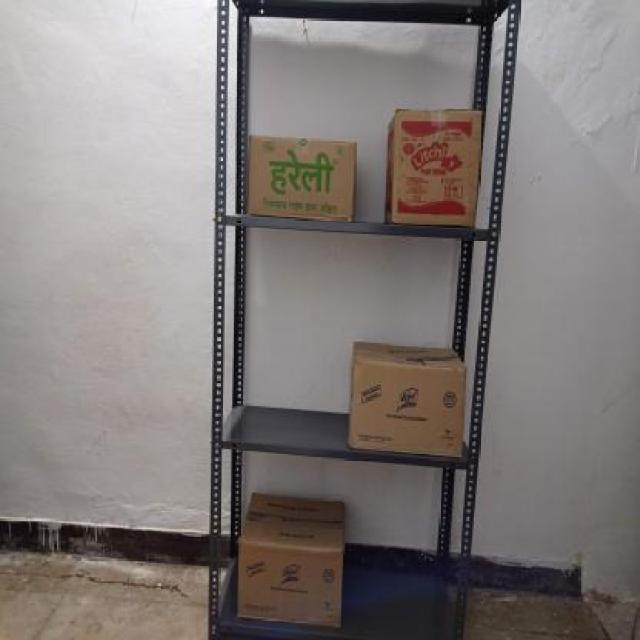box: (348, 360, 464, 458), (389, 109, 477, 228), (233, 536, 344, 629), (247, 135, 355, 221)
